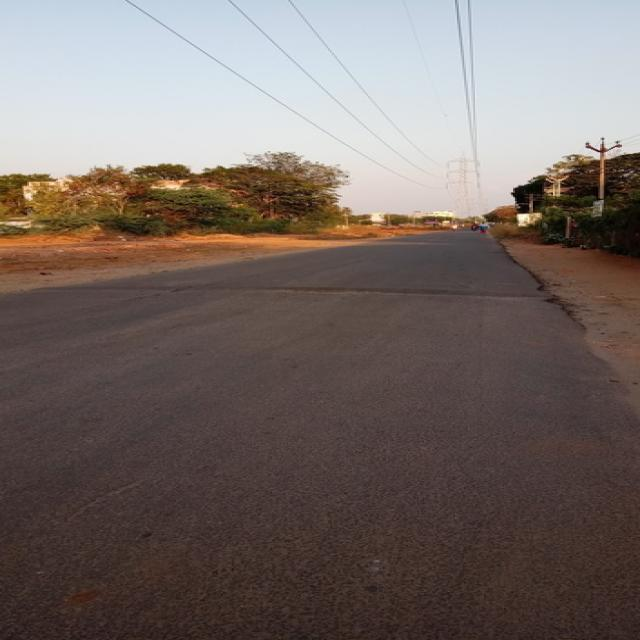speedbreaker: (18, 276, 570, 304)
